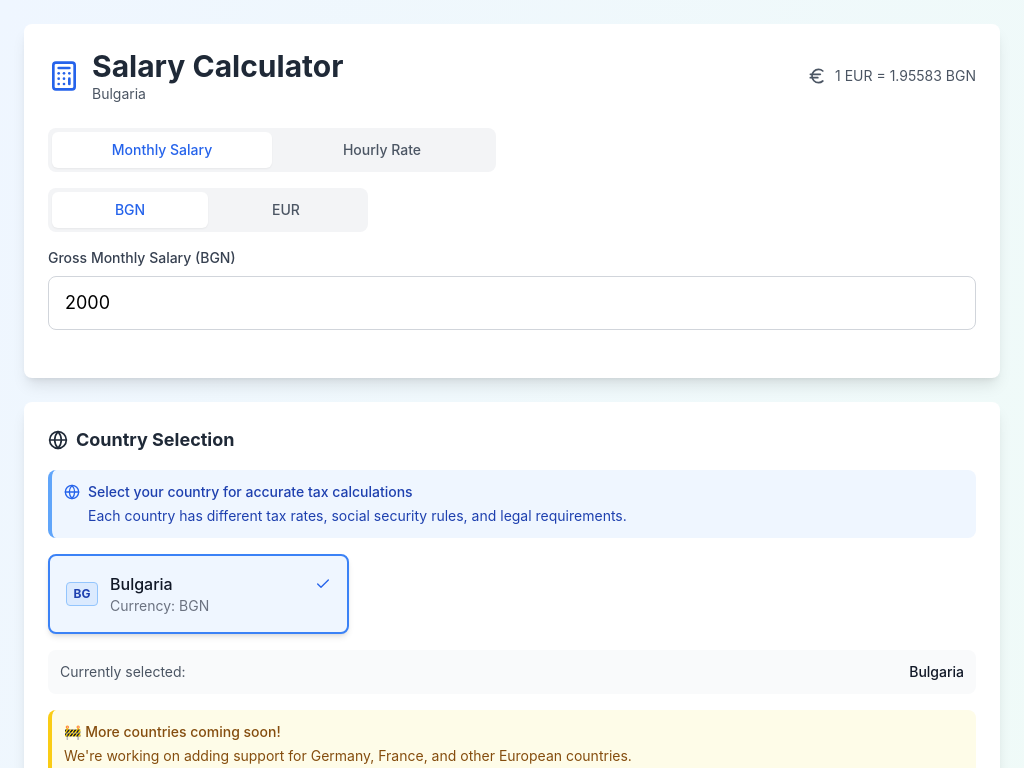
it: Salary Calculator Integration Tests › Complete calculator flow › should use predefined hourly rates correctly
# Switch to hourly mode
Click the button "Hourly Rate". click: (382, 150)
box: 272,132 -> 492,168
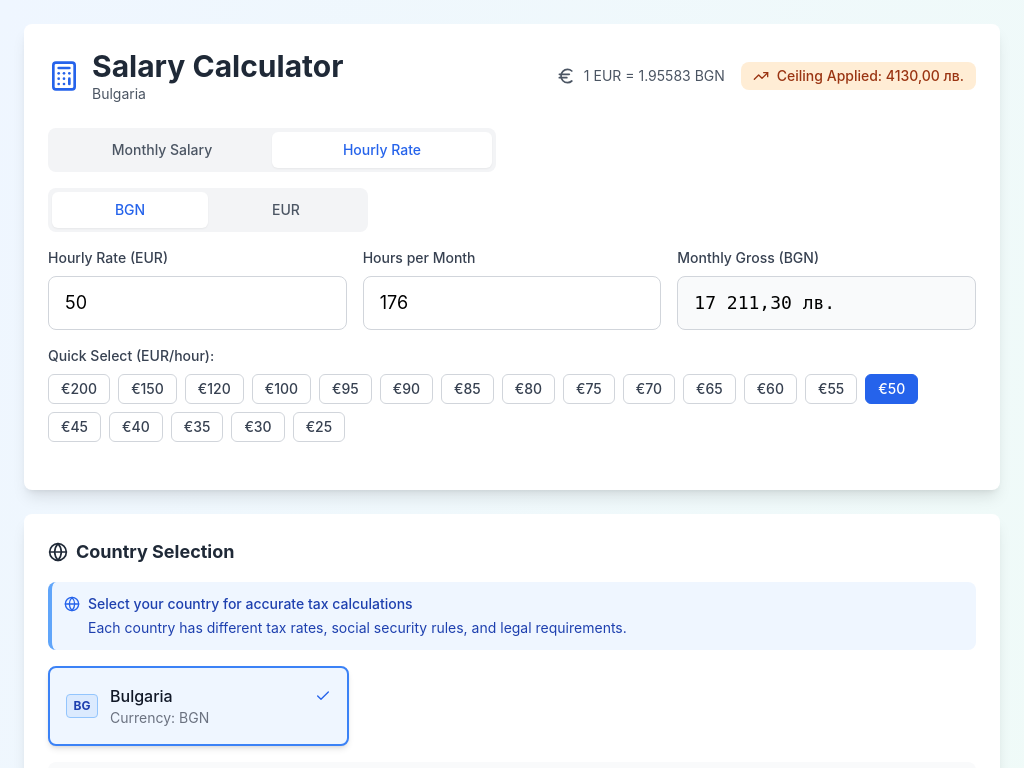
# Click on a predefined rate
Click the button "€100". click: (281, 389)
box: 252,374 -> 311,404
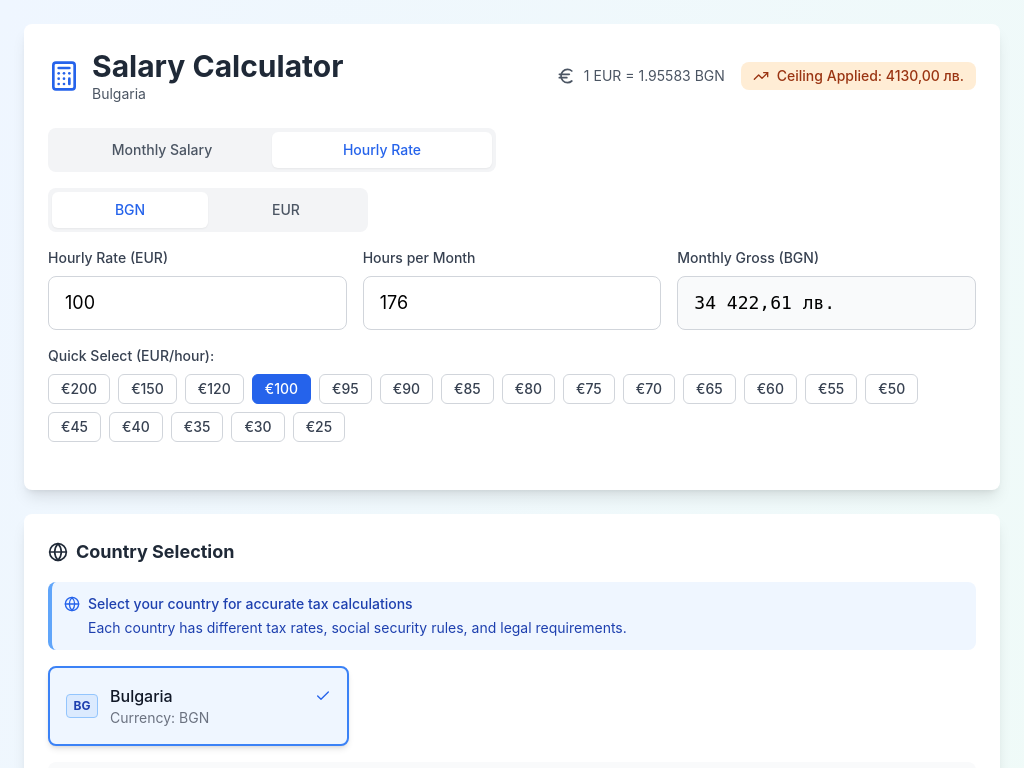
Result: the number field showing "100" below "Hourly Rate (EUR)" is shown at 48,276 -> 347,330
